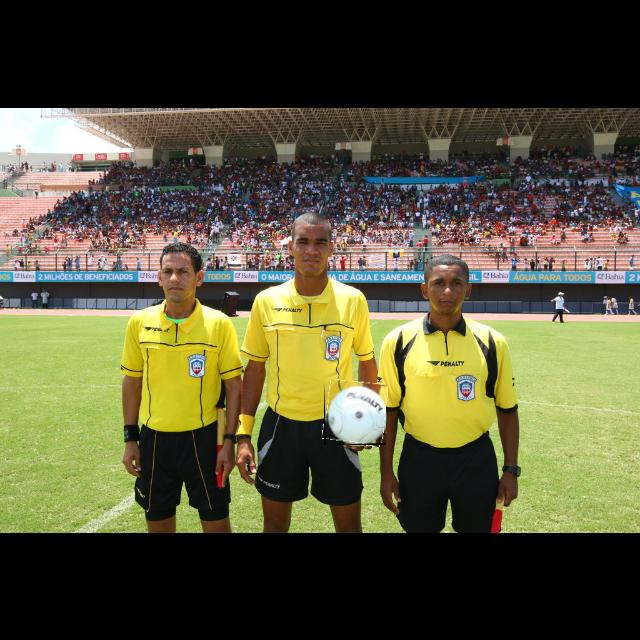Football: (324, 381, 386, 445)
